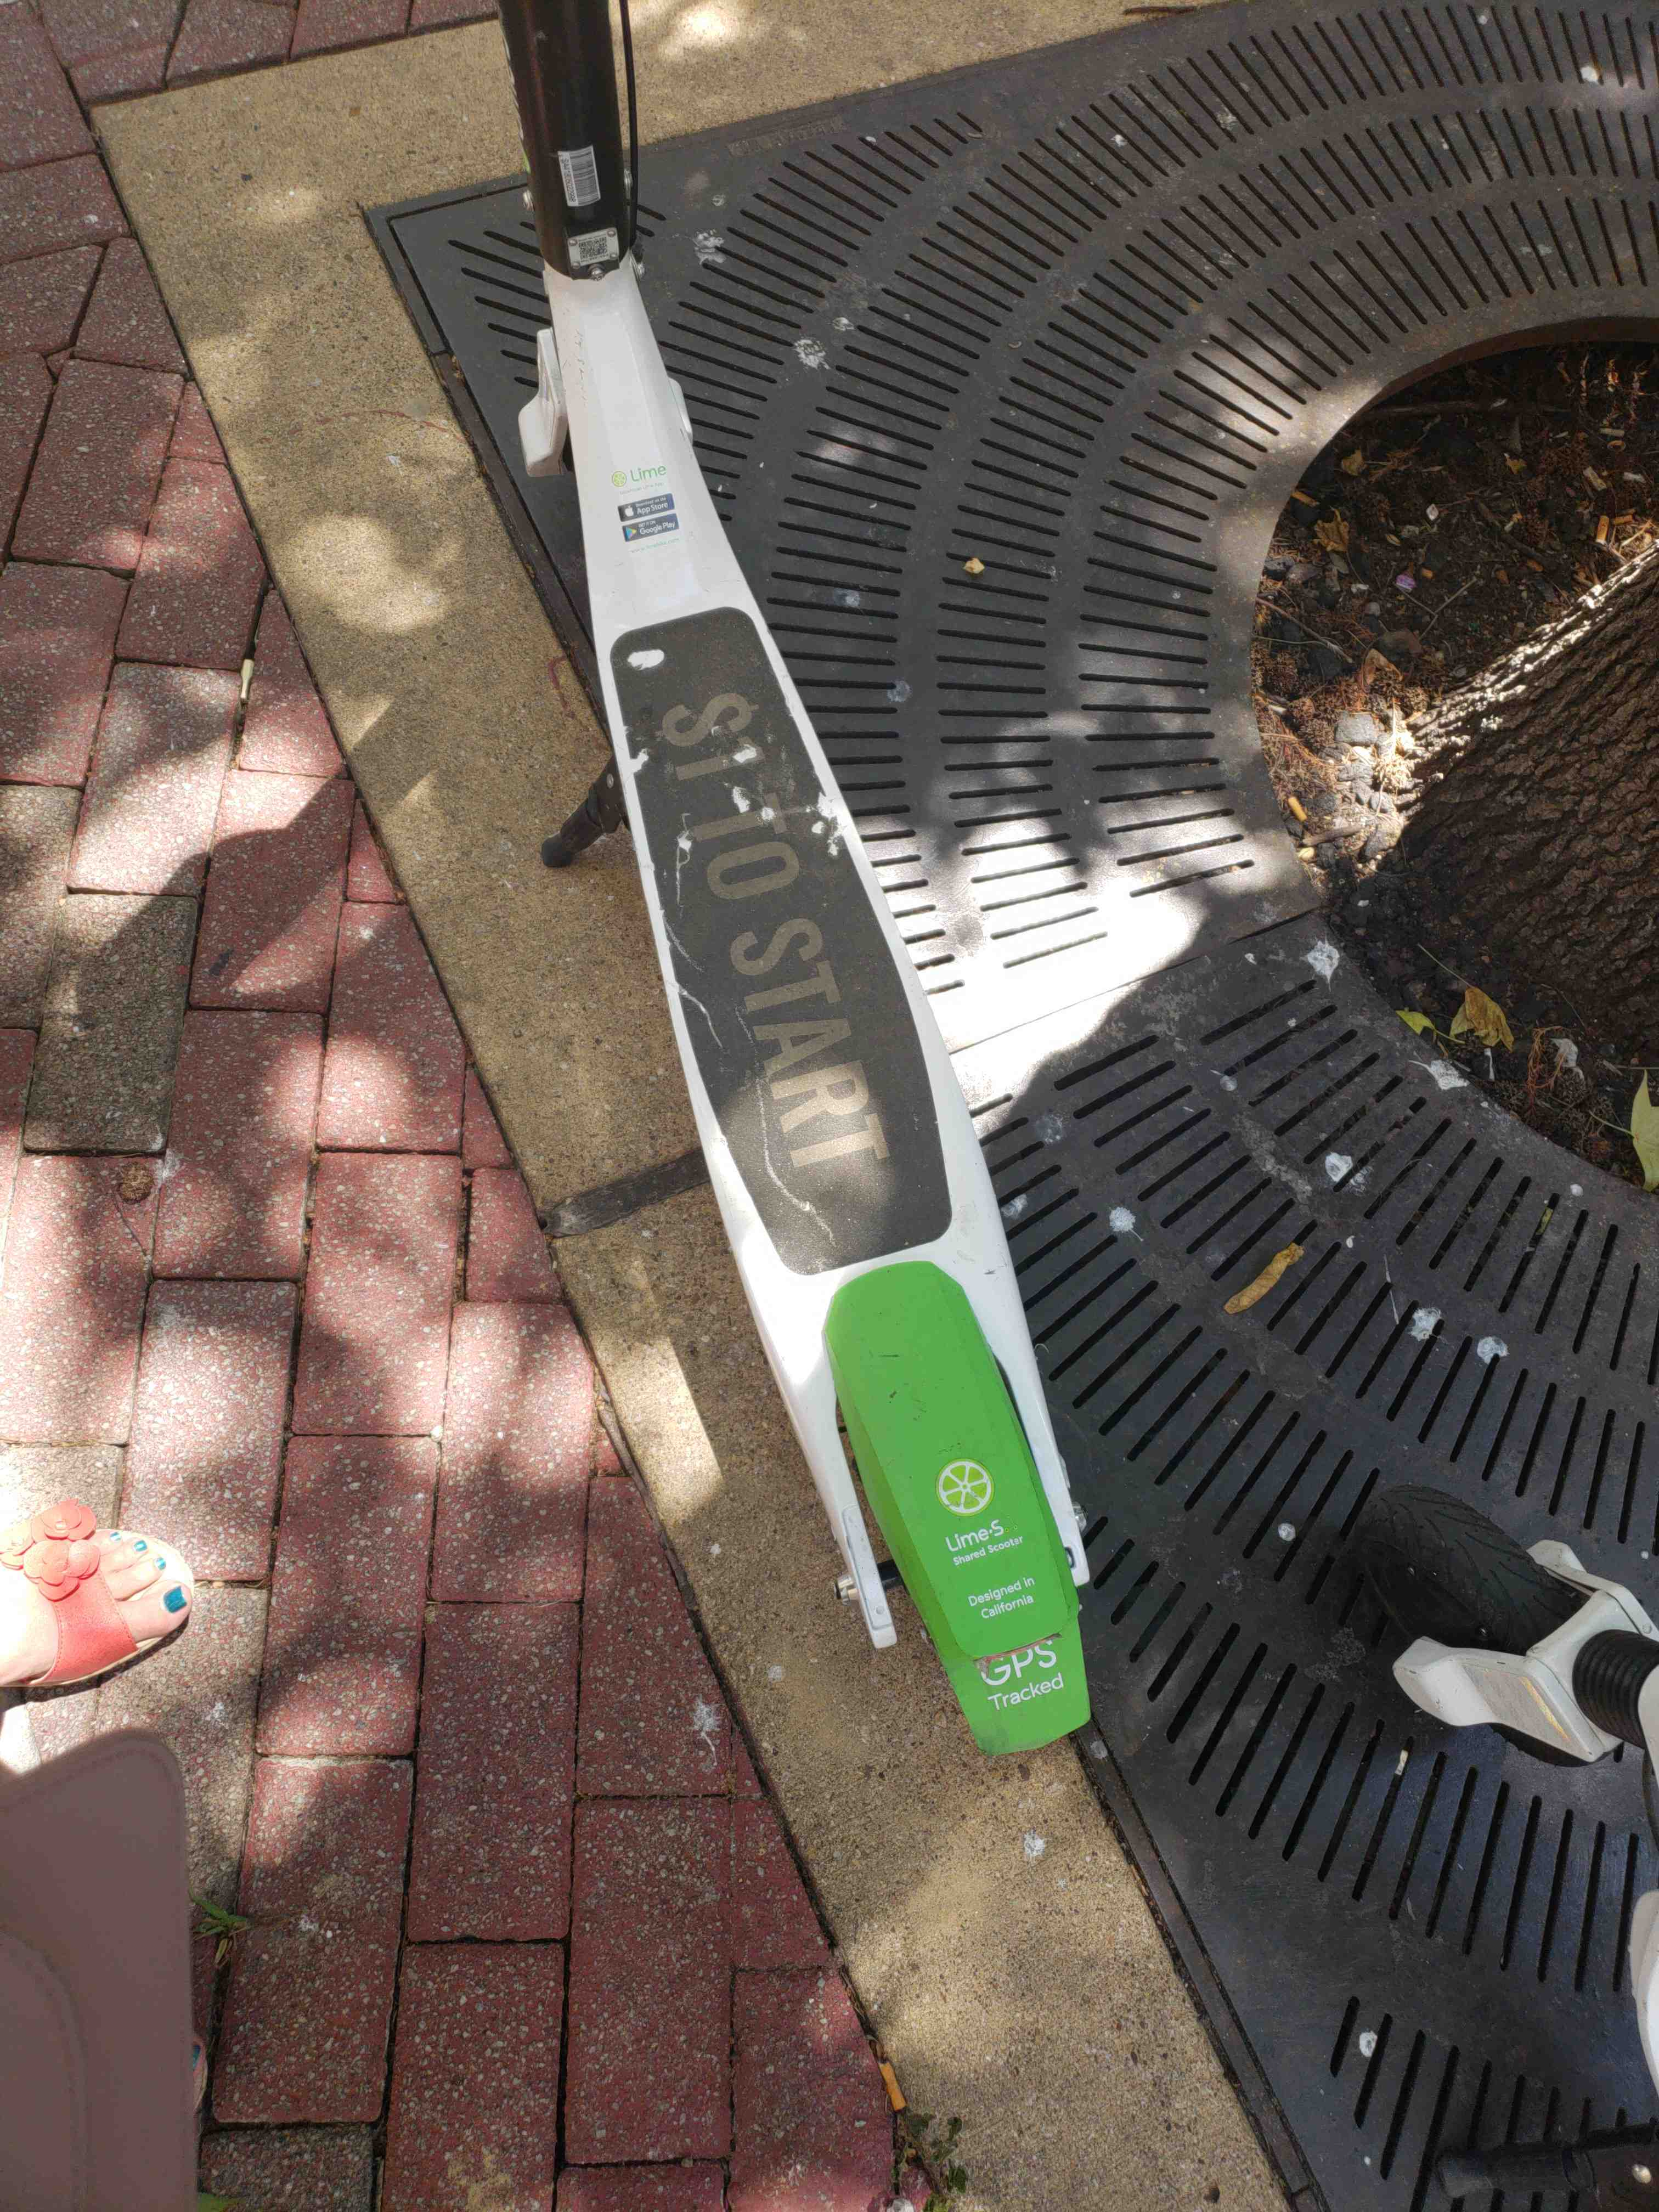scooter: (0, 47, 1115, 1977)
